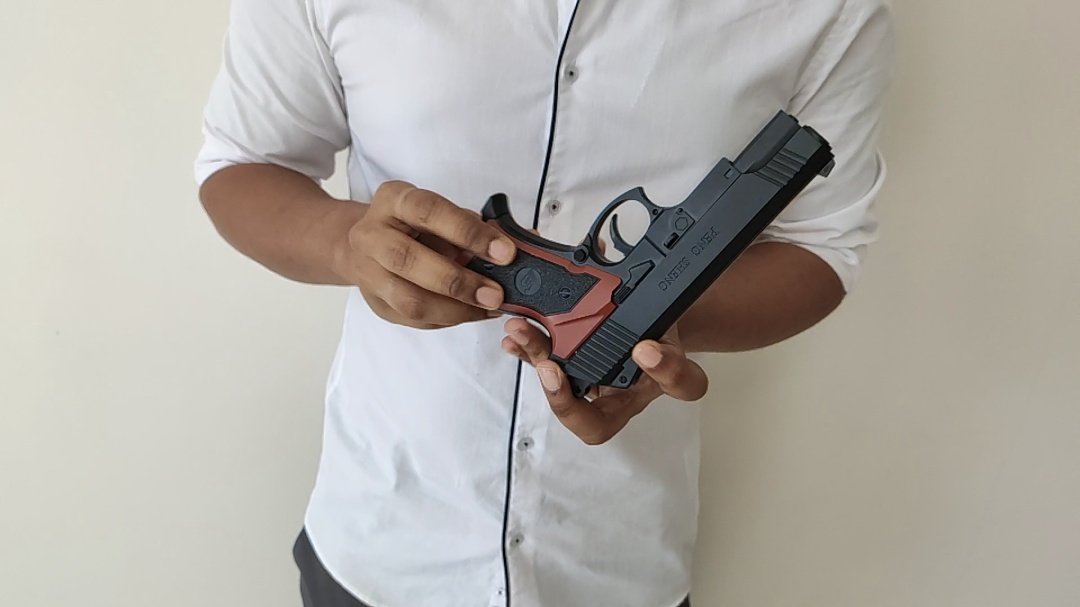gun: (308, 303, 763, 453)
